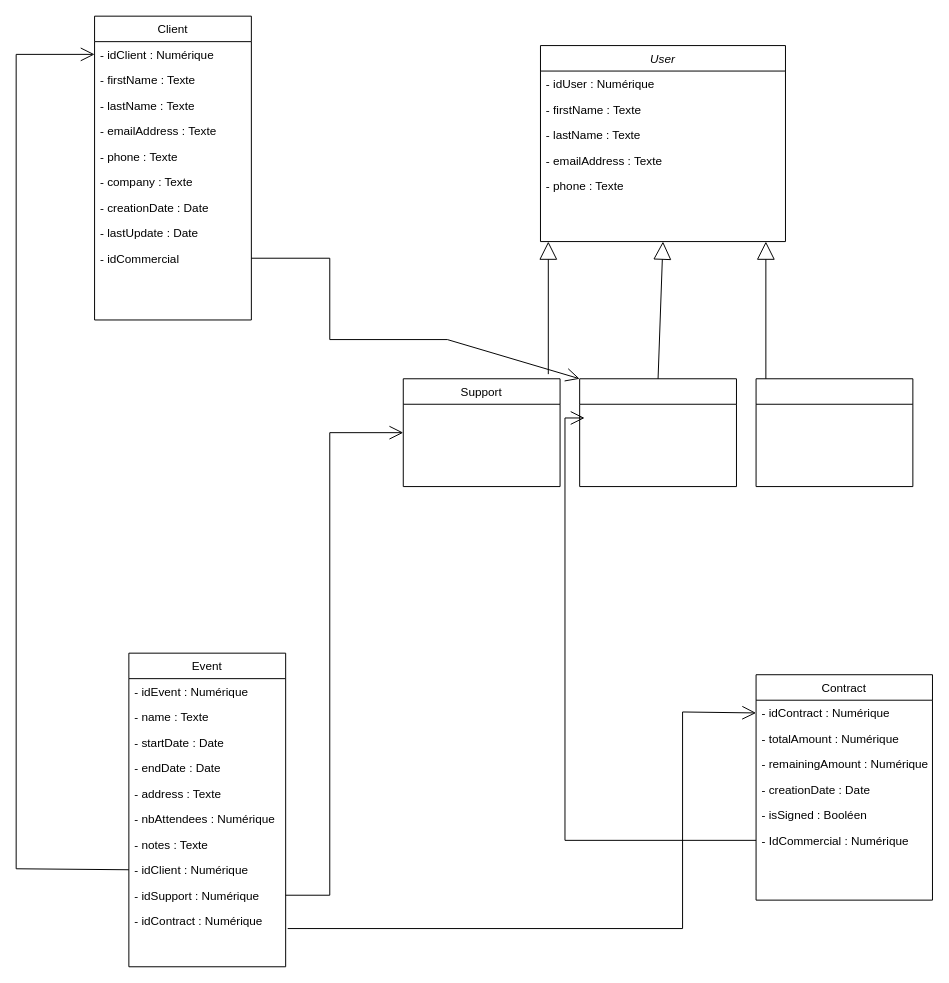
The diagram is 949 pixels wide and 983 high, and some of its shapes have lost their labels. The shapes that lost their labels are listed below. From the top down, each one's box as (x1, y1, x2, y2) in pixels, then its label:
(579, 378, 736, 487): Commercial
(755, 378, 913, 487): Gestion
